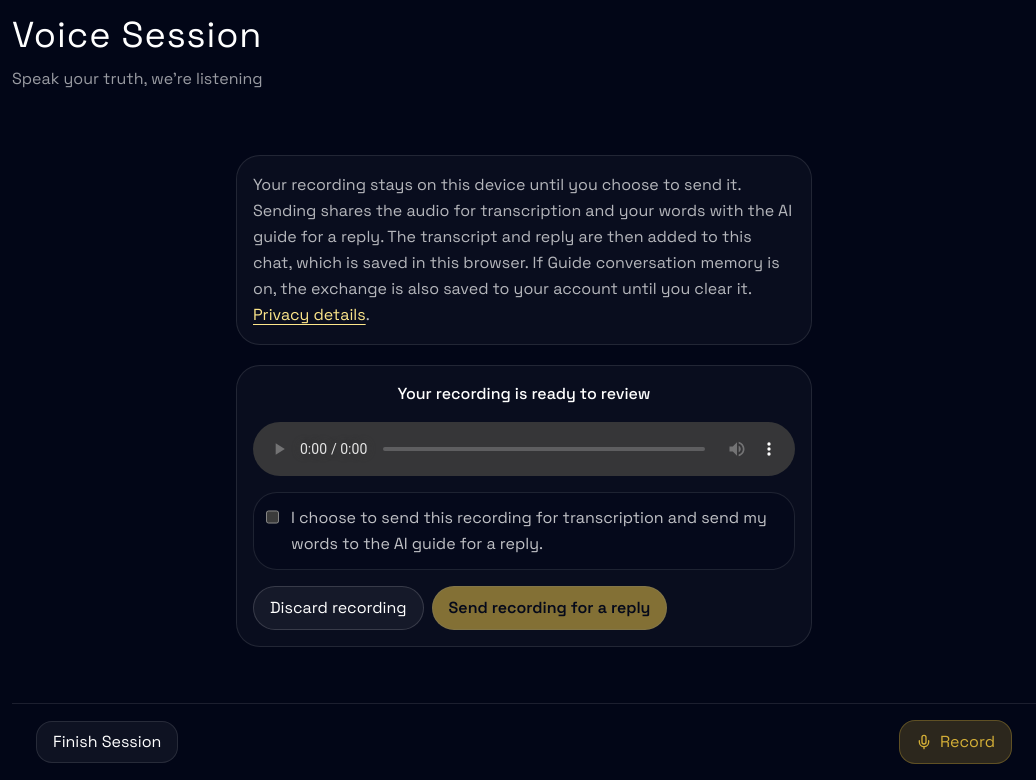
Scenario: VoiceSessionWorkspace consent gate › keeps a supplied recording local until consent and a send action
Expected: the button "Send recording for a reply" is disabled, [432,586,667,630]
Click the checkbox labelled "send this recording for transcription".
click(272, 517)  # box [266,509,279,525]
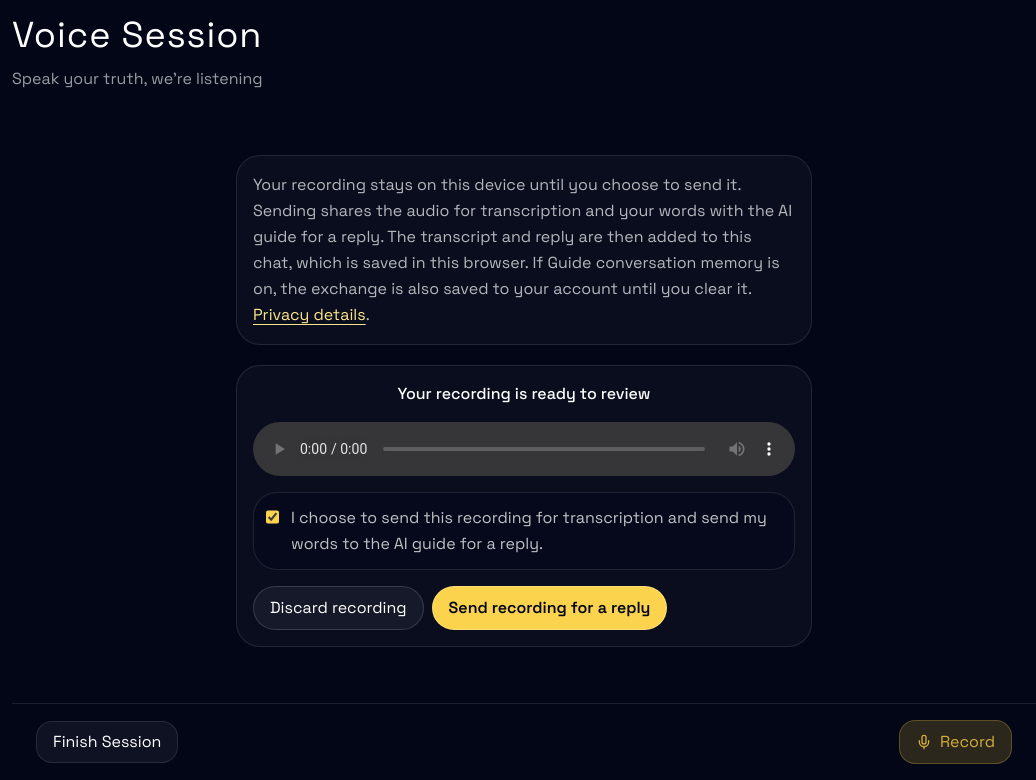
Click the button "Send recording for a reply".
click(550, 608)  # box [432,586,667,630]
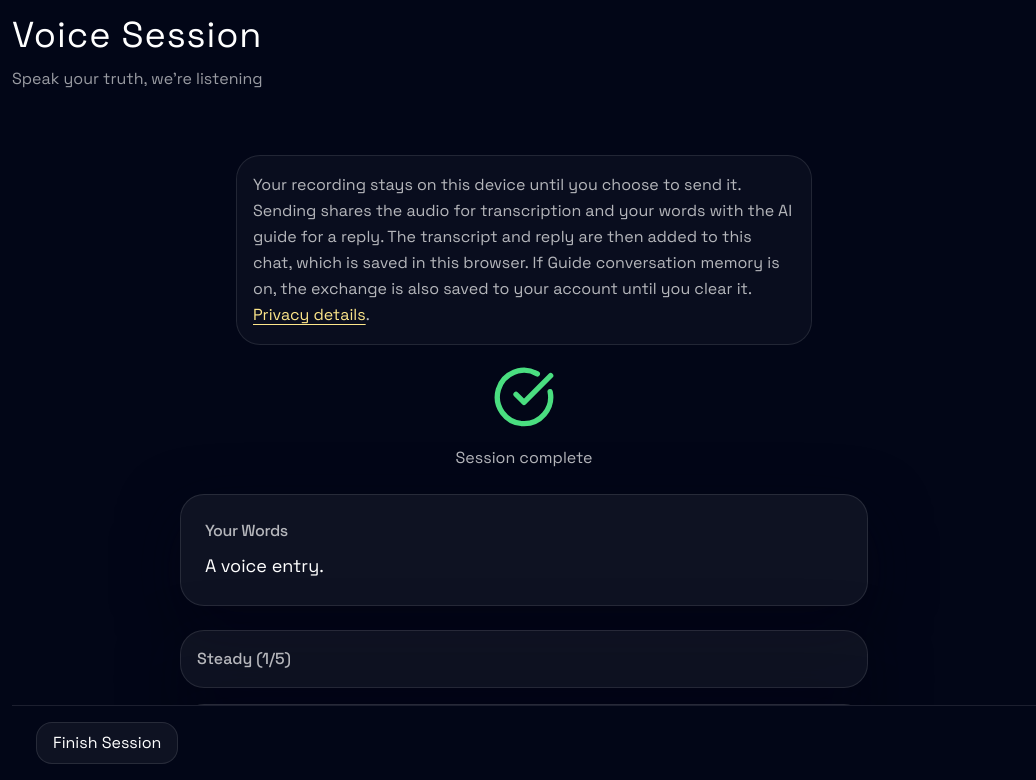
Now the text "Session complete" is shown, box [456,445,592,470]
